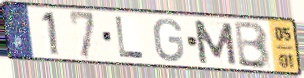1: (40, 10, 61, 57)
7: (68, 9, 97, 61)
B: (233, 20, 272, 71)
G: (152, 17, 186, 64)
L: (113, 15, 146, 61)
M: (191, 18, 239, 67)
